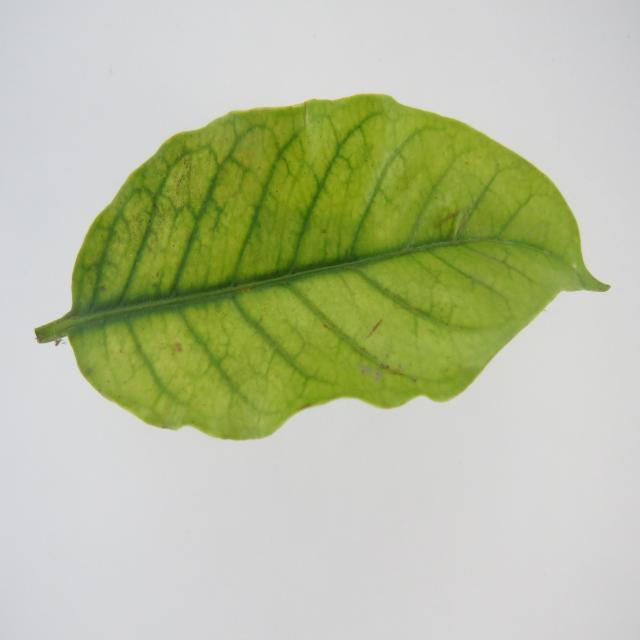DeficienciaNutricional-Hierro: (74, 97, 610, 433)
